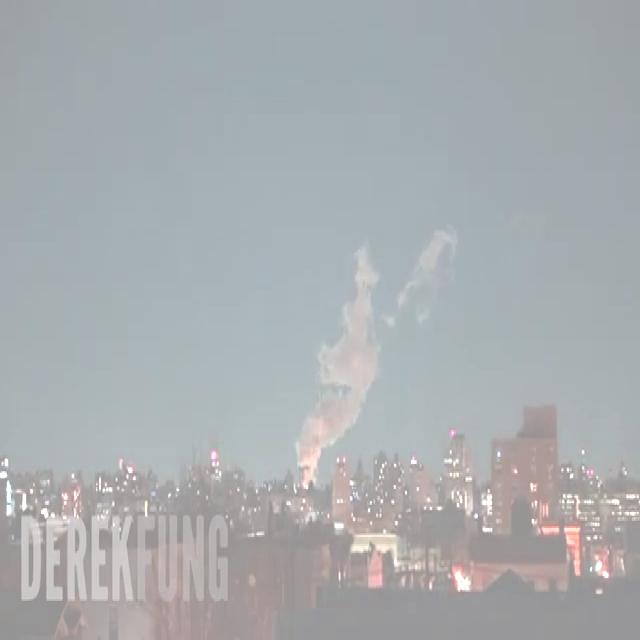smoke: (296, 247, 379, 453), (295, 265, 379, 460)
